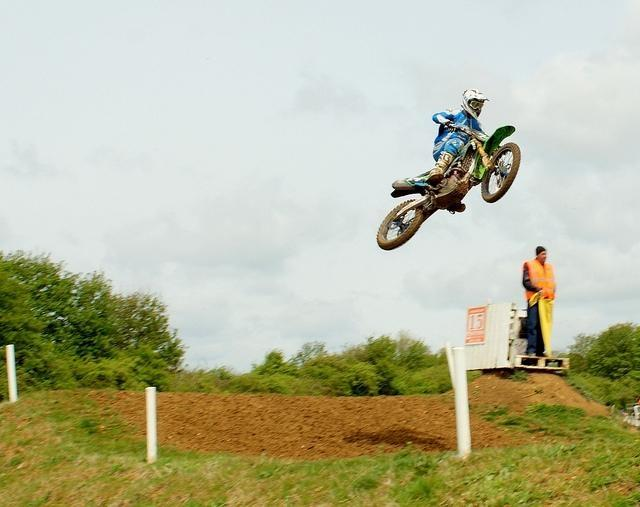motorcycle: (374, 126, 520, 250)
